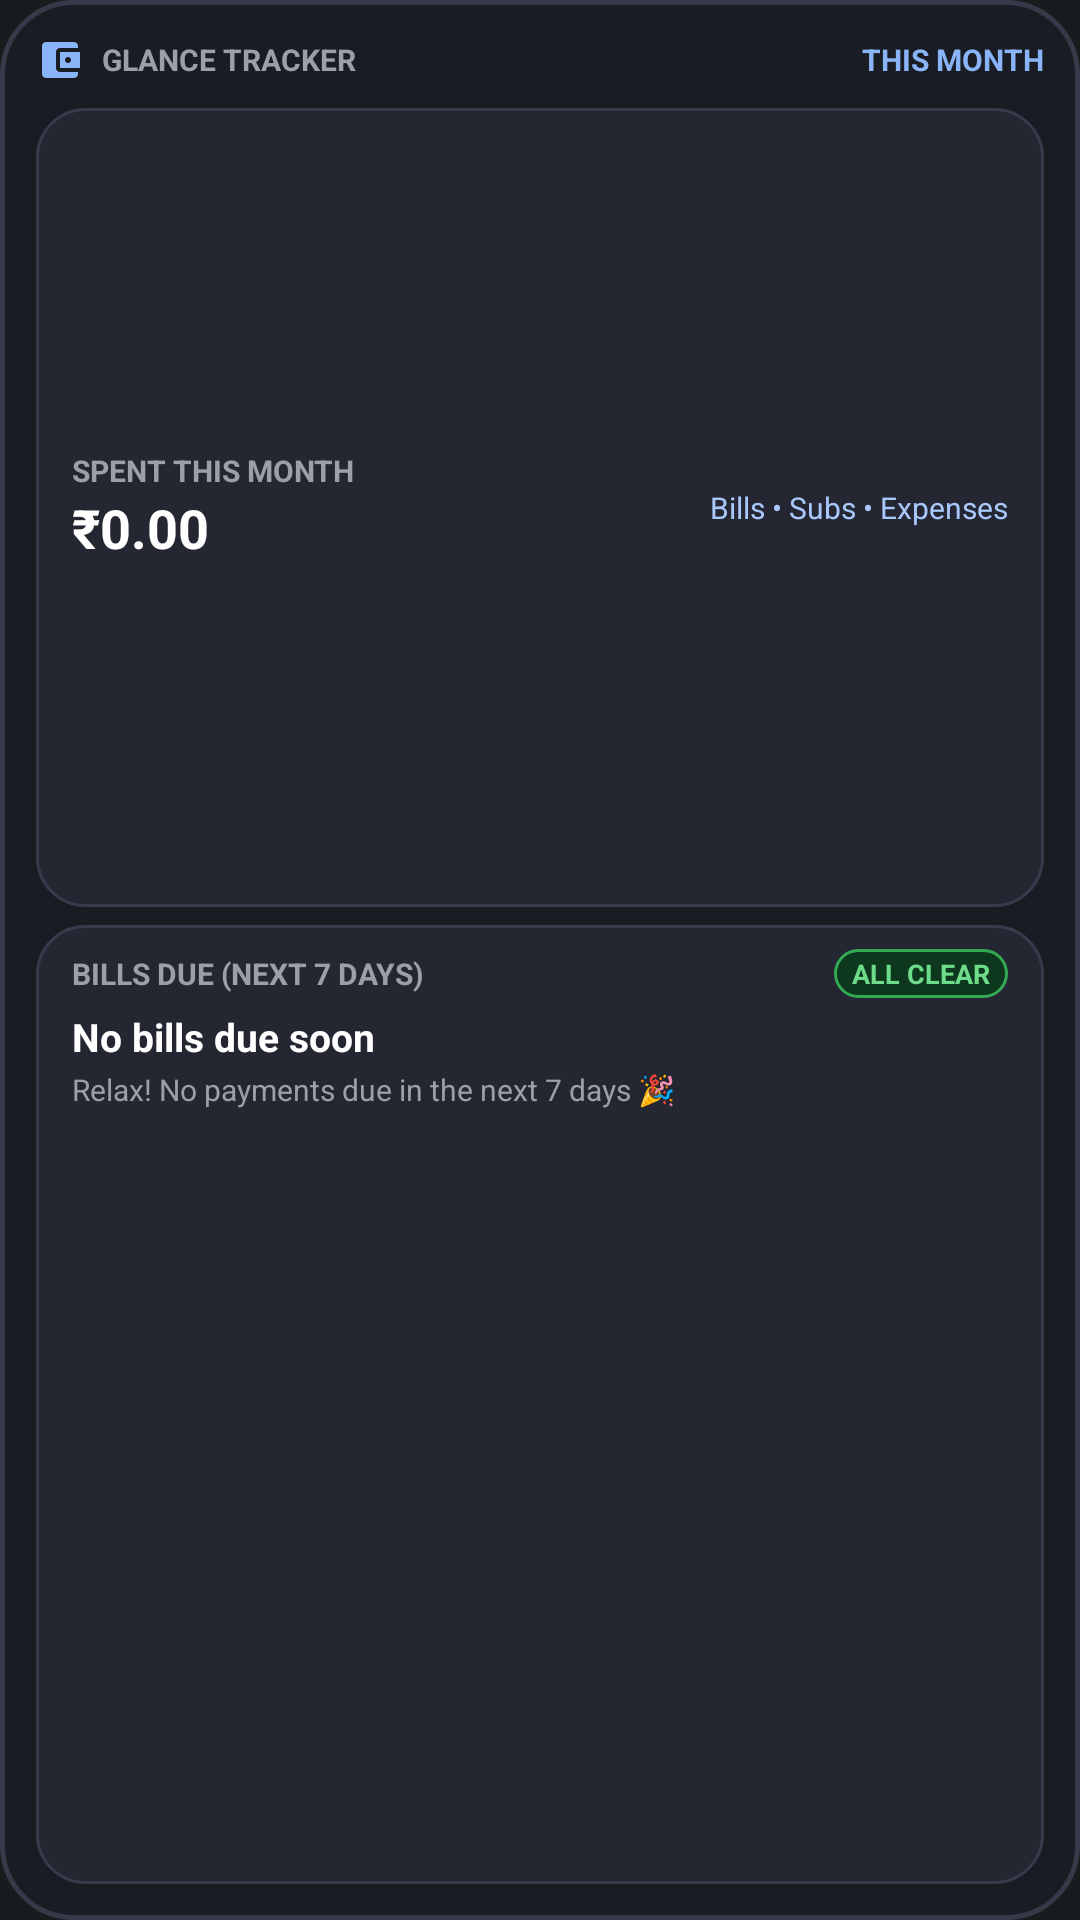

Icon click points for this 1080*1920 phone screenshot, format [x,y]:
widget finance: [61,60]
